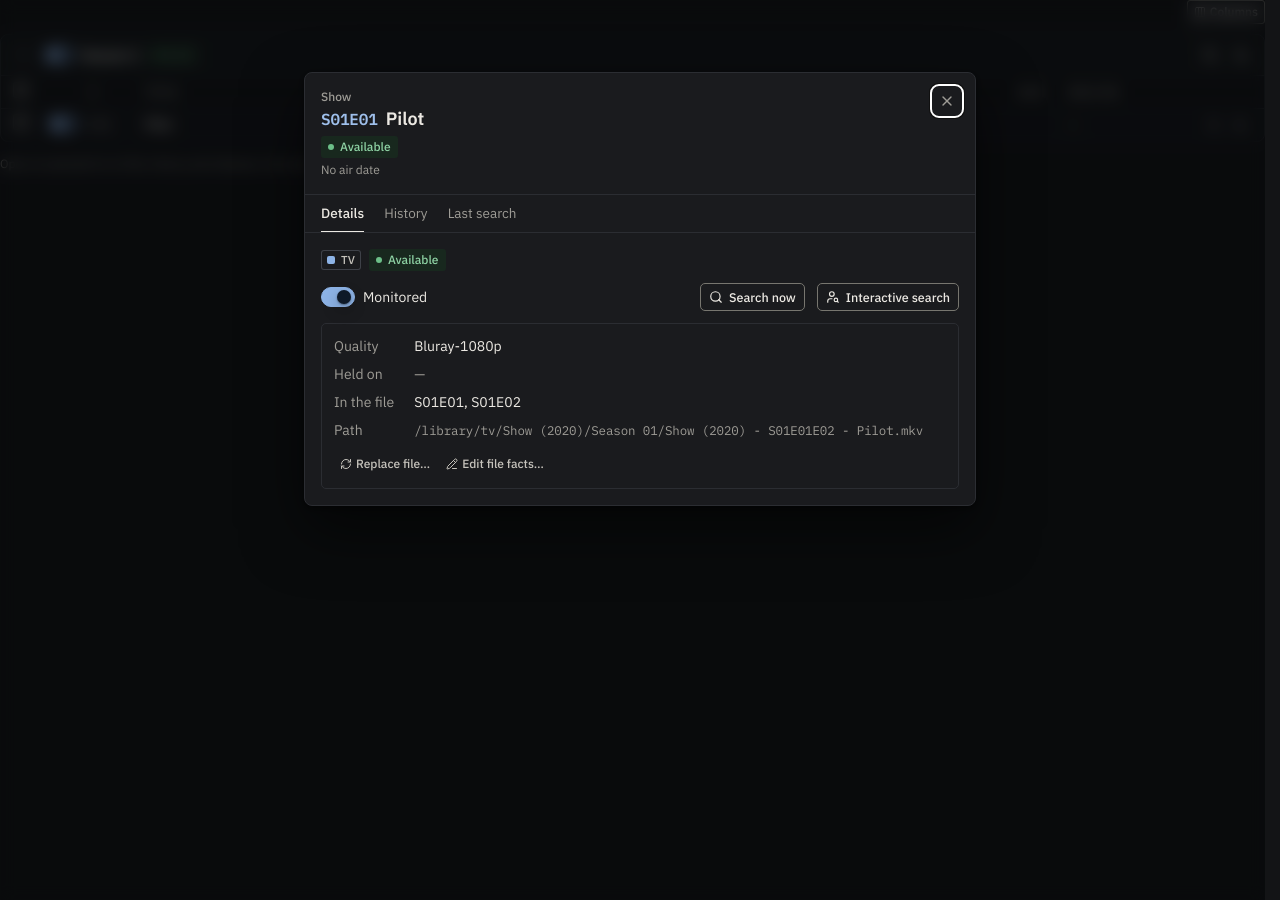
replaces an episode's file with the Problems page's scope, without a report, and says what came of it in a notice
The width and height of the screenshot is (1280, 900).
Check: the element with test id "episode-file" is shown, box [321, 323, 959, 489]
Click the button with test id "link-replace" at [385, 464], box [334, 452, 436, 476]
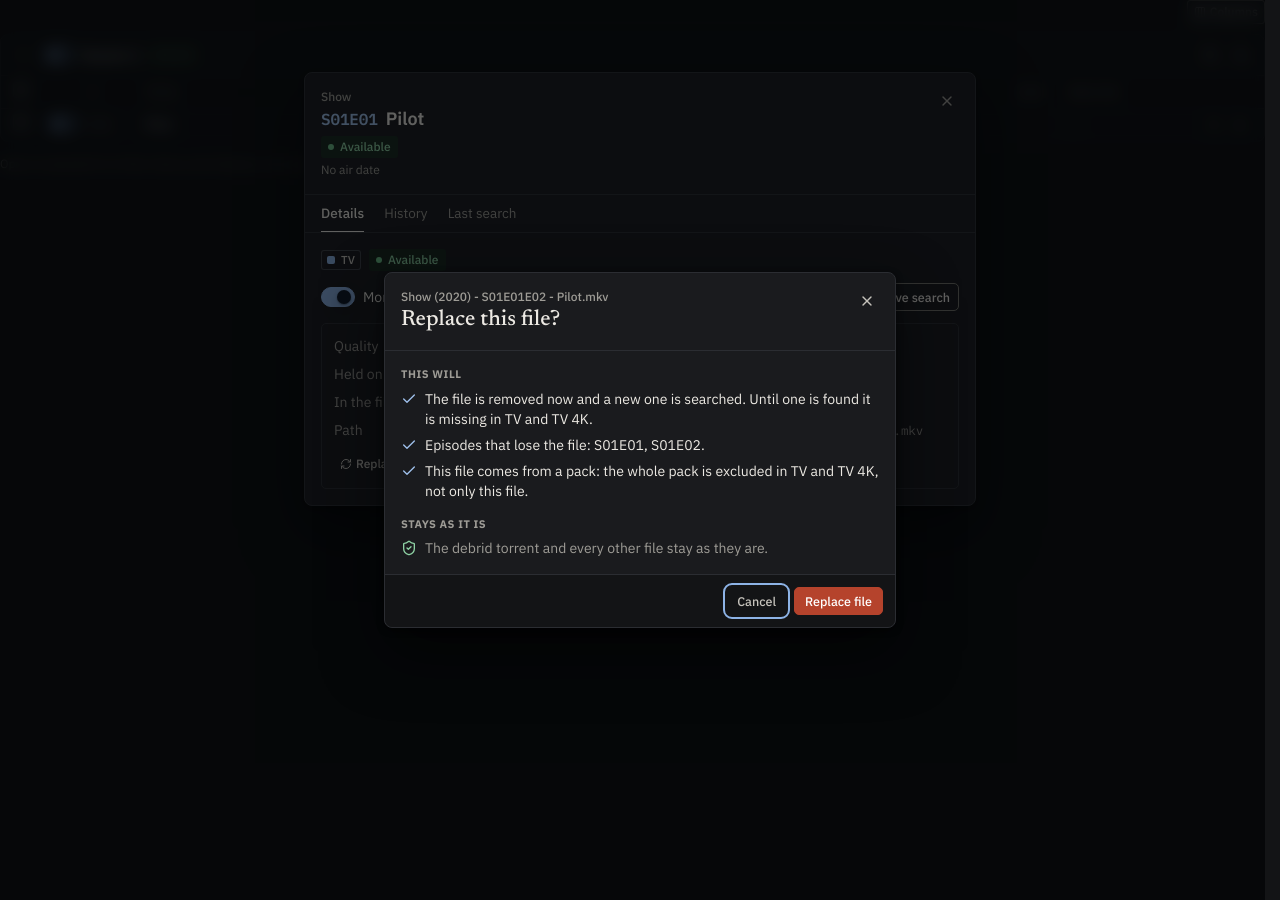
Check: the list item "missing in TV and TV 4K" is shown, box [425, 390, 871, 428]
Check: the list item "Episodes that lose the file: S01E01, S01E02." is shown, box [401, 436, 705, 454]
Check: the list item "the whole pack is excluded in TV and TV 4K" is shown, box [425, 462, 879, 500]
Click the button "Replace file" at [838, 602], box [794, 588, 883, 616]
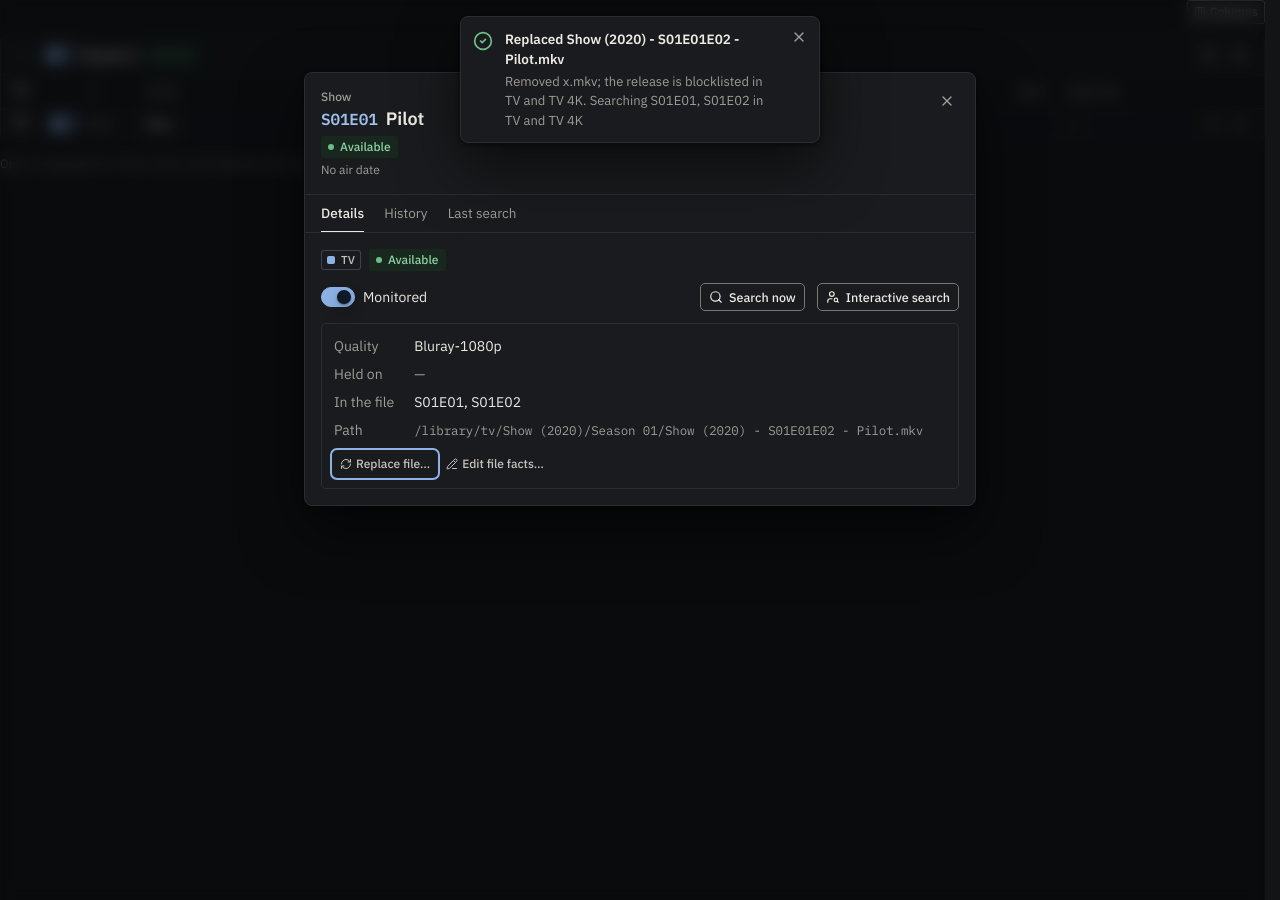
Check: the element with test id "replace-confirm" is gone
Check: the message with test id "toast" shows "Removed x.mkv; the release is blocklisted in TV and TV 4K. Searching S01E01, S01E02 in TV and TV 4K", box [505, 72, 764, 128]
